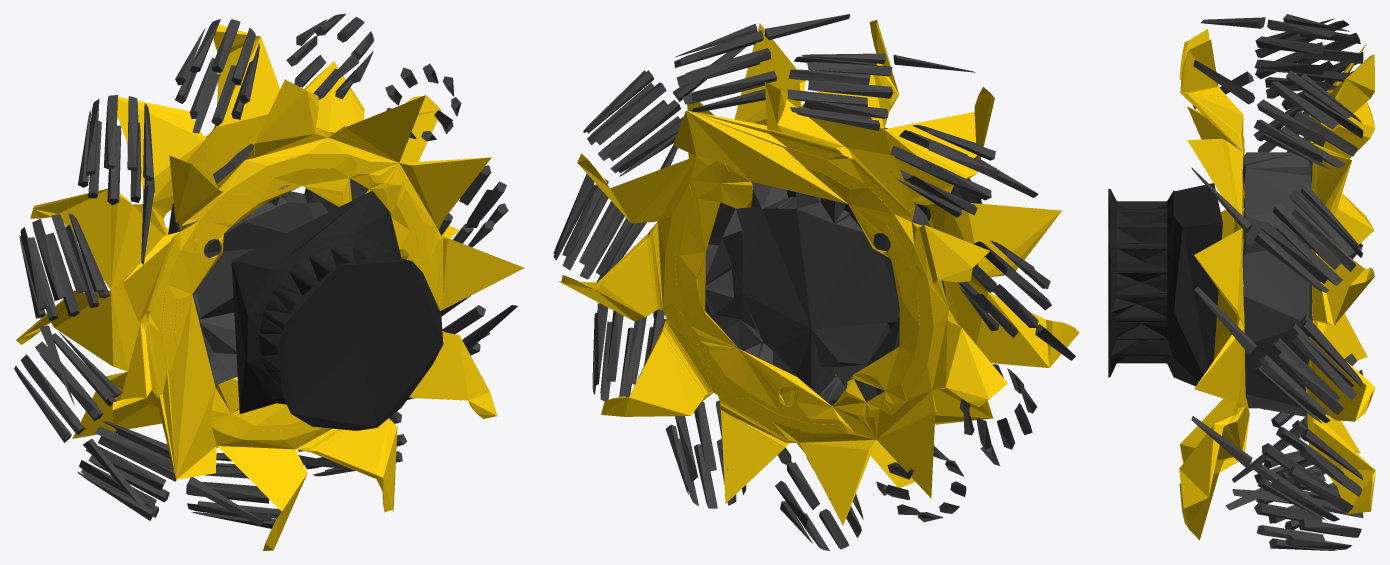
The model's file is wheelBR.glb.
The picture shows the model from 3 angles, left to right: view 1: azimuth 30°, elevation 25°; view 2: azimuth 150°, elevation 25°; view 3: azimuth 270°, elevation 25°; orthographic projection.
Parts seen in each view (by area): view 1: wheelBR_1, wheelBR_2, wheelBR_0; view 2: wheelBR_1, wheelBR_2; view 3: wheelBR_2, wheelBR_1, wheelBR_0.
Boxes of the visible parts, x1,y1,x2,y2 form: wheelBR_1: (16, 25, 524, 550); wheelBR_2: (14, 14, 517, 528); wheelBR_0: (231, 190, 443, 430); wheelBR_1: (558, 20, 1079, 525); wheelBR_2: (553, 14, 1075, 550); wheelBR_2: (1191, 14, 1363, 550); wheelBR_1: (1179, 29, 1375, 540); wheelBR_0: (1108, 183, 1222, 386).
Size of the model in its own units: 3.97 by 3.97 by 1.98.
